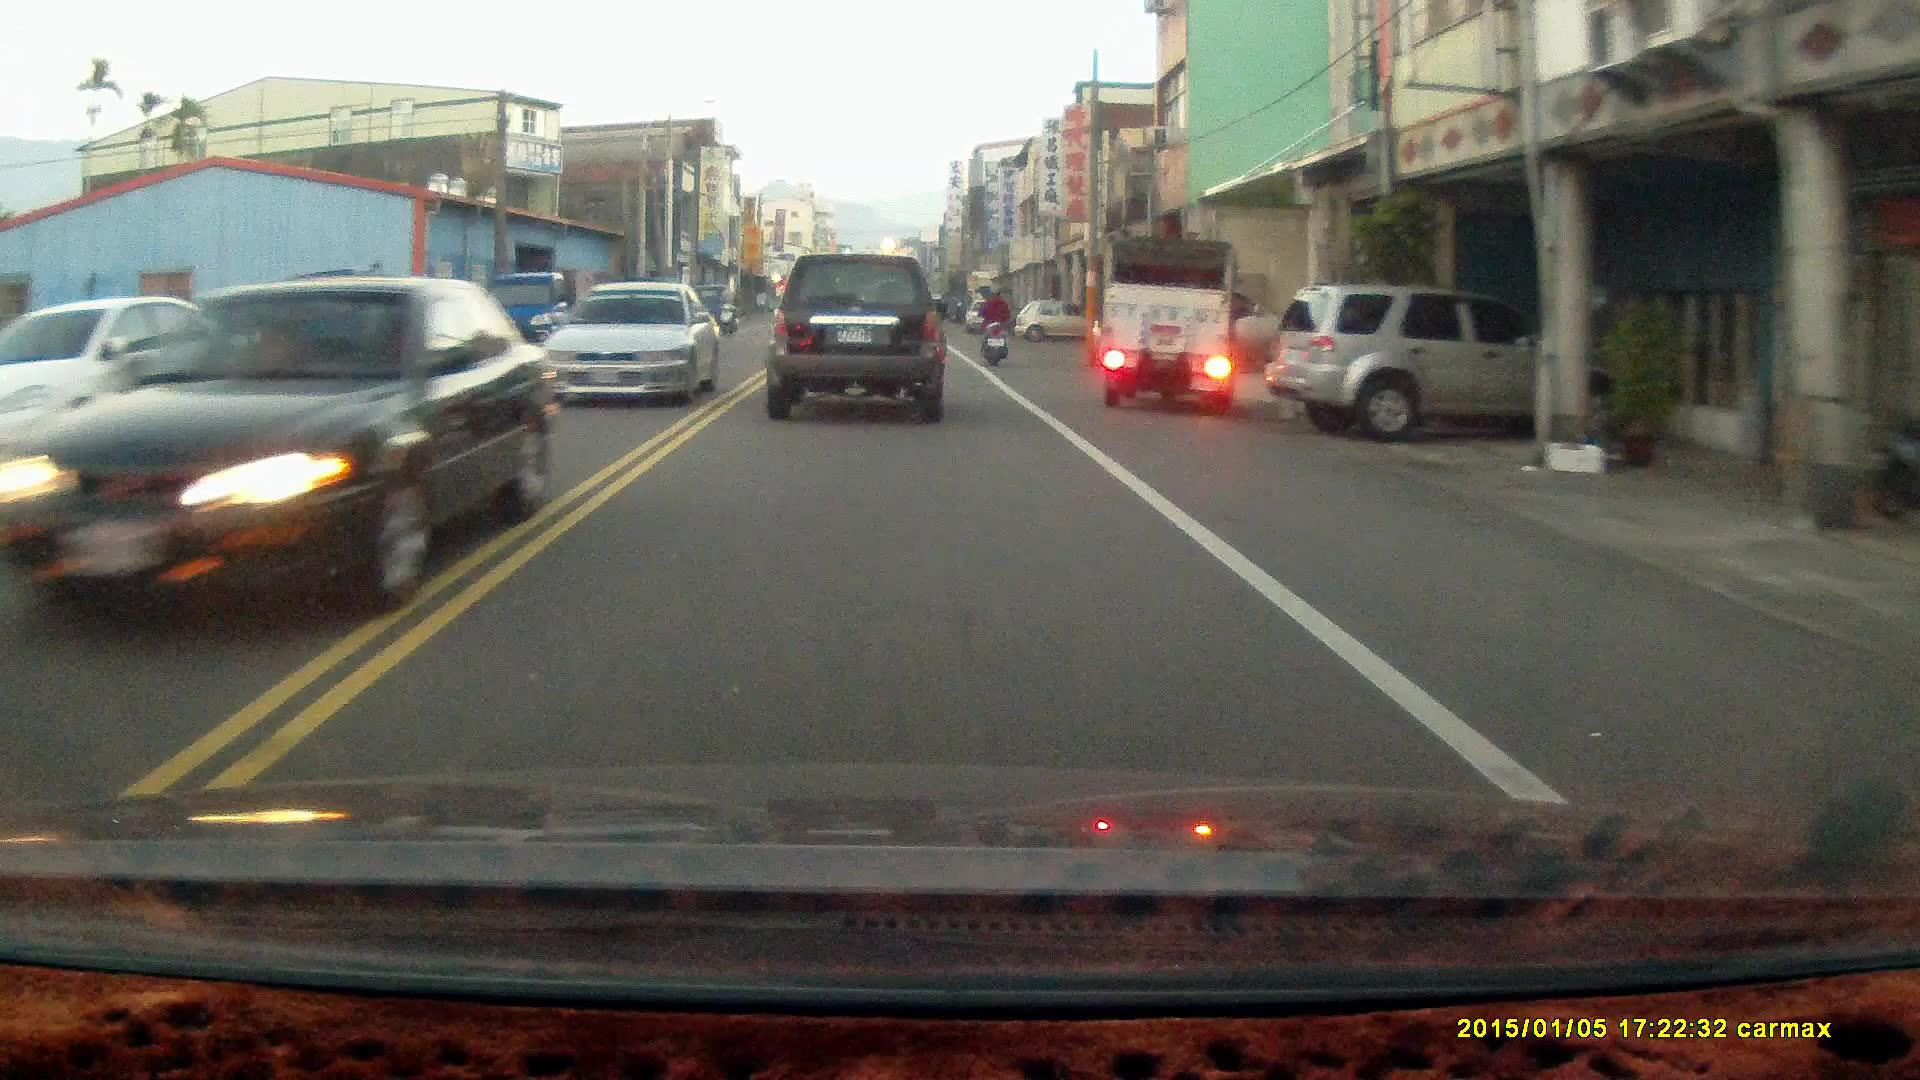rider: (975, 281, 1012, 367), (715, 285, 742, 337)
vehicle: (25, 274, 542, 628), (1, 293, 282, 485), (1271, 279, 1553, 440), (766, 254, 948, 425), (1100, 233, 1239, 407), (545, 279, 719, 406), (476, 272, 609, 386), (1016, 294, 1085, 345)
